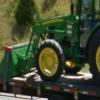Tractor: (23, 4, 100, 80)
